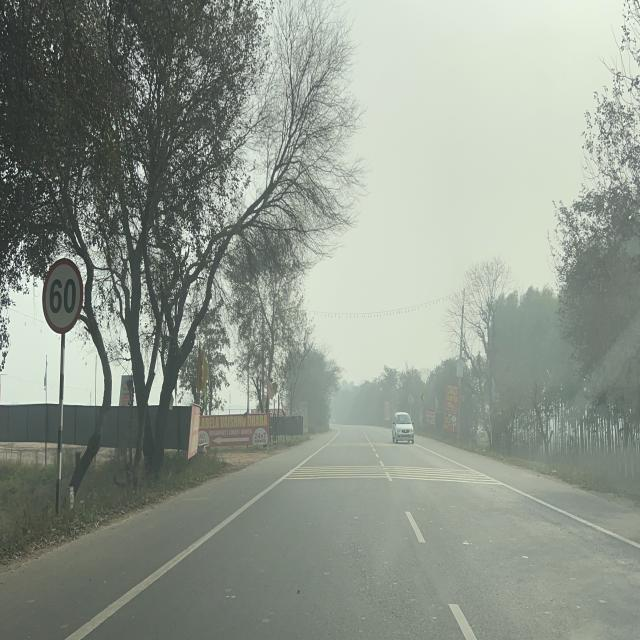SPEED_LIMIT_60: (41, 258, 83, 338)
TURN_LEFT: (420, 394, 424, 402)
